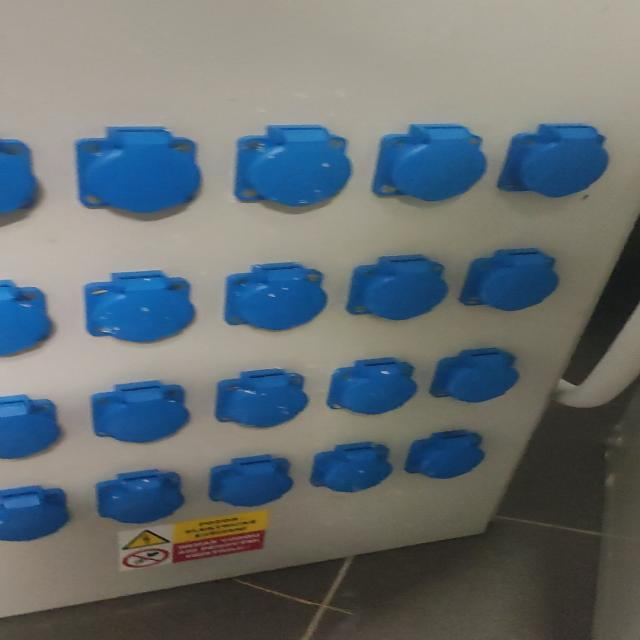house plug covered: (74, 126, 203, 213), (232, 125, 353, 207), (370, 124, 488, 202), (81, 270, 197, 343), (500, 124, 610, 199), (222, 265, 325, 333), (91, 380, 190, 443), (348, 256, 445, 320), (459, 252, 558, 311), (215, 371, 305, 428), (326, 358, 417, 414), (94, 469, 184, 524), (429, 348, 519, 403), (208, 455, 293, 507), (0, 394, 66, 459), (0, 280, 54, 357), (310, 442, 393, 492), (405, 429, 485, 479), (0, 485, 70, 541)
